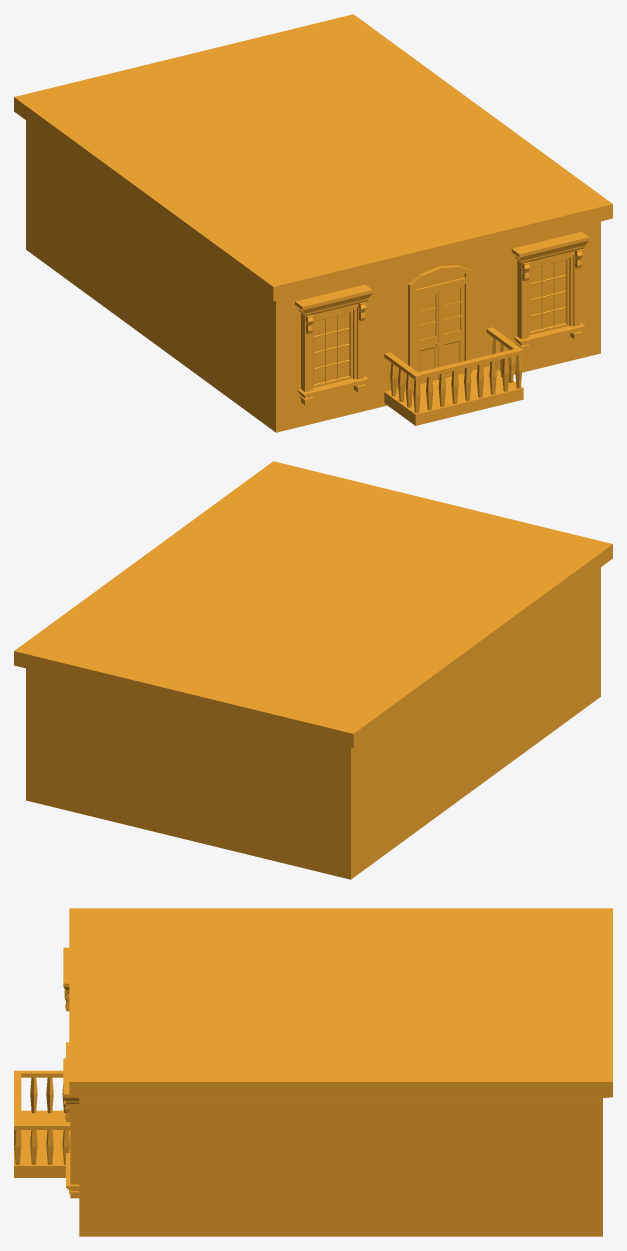
The model's file is SM_Floor_Mid_Balcony_F_Steampunk.fbx.
3 renders of one model, top to bottom at view 1: azimuth 30°, elevation 25°; view 2: azimuth 150°, elevation 25°; view 3: azimuth 270°, elevation 25°, orthographic. The views are drawn at different scales.
Parts seen in each view (by area): view 1: floor-mid-balcony-f-steampunk; view 2: floor-mid-balcony-f-steampunk; view 3: floor-mid-balcony-f-steampunk.
Part boxes in pixels (x1=…): floor-mid-balcony-f-steampunk: x1=14, y1=14, x2=612, y2=432; floor-mid-balcony-f-steampunk: x1=14, y1=461, x2=612, y2=879; floor-mid-balcony-f-steampunk: x1=14, y1=908, x2=612, y2=1236.
Bounding box in the file's own units: 9.41 × 4 × 13.72.
